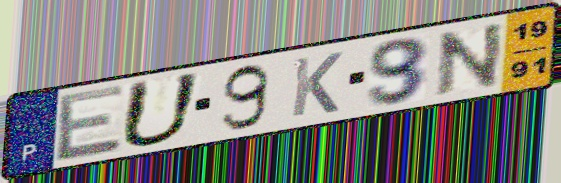9: (364, 35, 433, 108), (219, 62, 273, 132)
E: (54, 81, 127, 165)
K: (288, 49, 346, 120)
N: (434, 19, 507, 99)
U: (115, 69, 206, 150)
